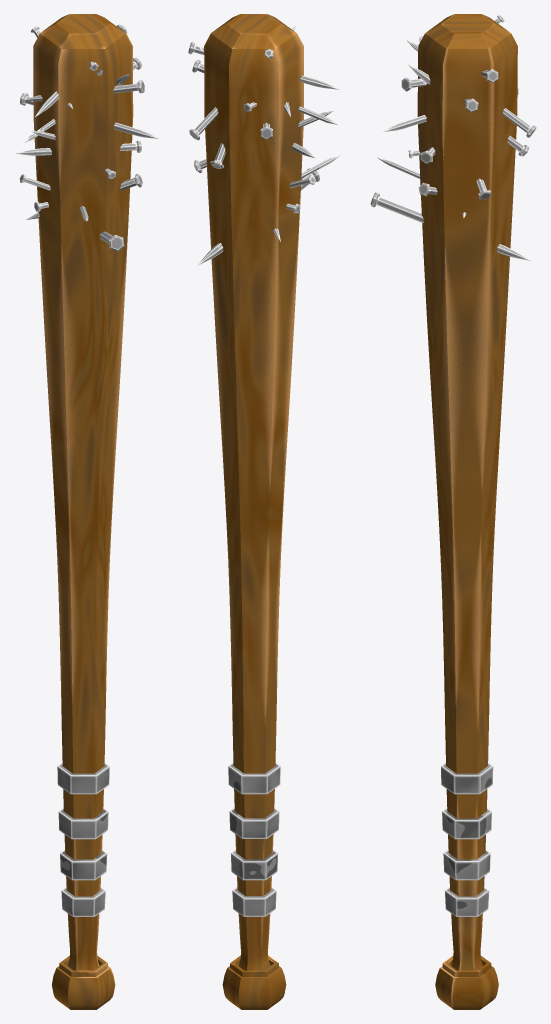
The model's file is bat.glb.
The picture shows the model from 3 angles, left to right: view 1: azimuth 30°, elevation 25°; view 2: azimuth 150°, elevation 25°; view 3: azimuth 270°, elevation 25°; orthographic projection.
Visible parts, largest first — view 1: Cylinder.001, Cylinder.002, nail.003; view 2: Cylinder.001, Cylinder.002, nail.003; view 3: Cylinder.001, Cylinder.002, nail.003.
Part boxes in pixels (left/top/right/bottom): Cylinder.001: left=33, top=14, right=133, bottom=1009; Cylinder.002: left=57, top=762, right=109, bottom=916; nail.003: left=15, top=24, right=158, bottom=251; Cylinder.001: left=204, top=14, right=303, bottom=1009; Cylinder.002: left=228, top=762, right=280, bottom=916; nail.003: left=188, top=25, right=341, bottom=265; Cylinder.001: left=417, top=14, right=517, bottom=1009; Cylinder.002: left=441, top=762, right=493, bottom=916; nail.003: left=370, top=15, right=536, bottom=260.
Size of the model in its own units: 0.6411 by 4.57 by 0.7027.
3 materials, 3 textured.
